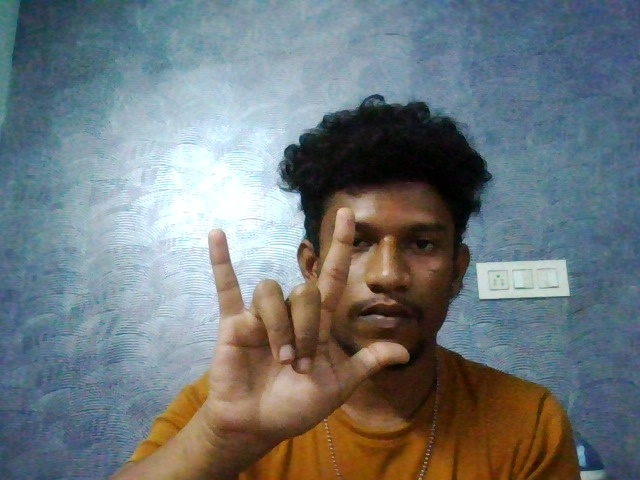i love you: (195, 206, 420, 444)
